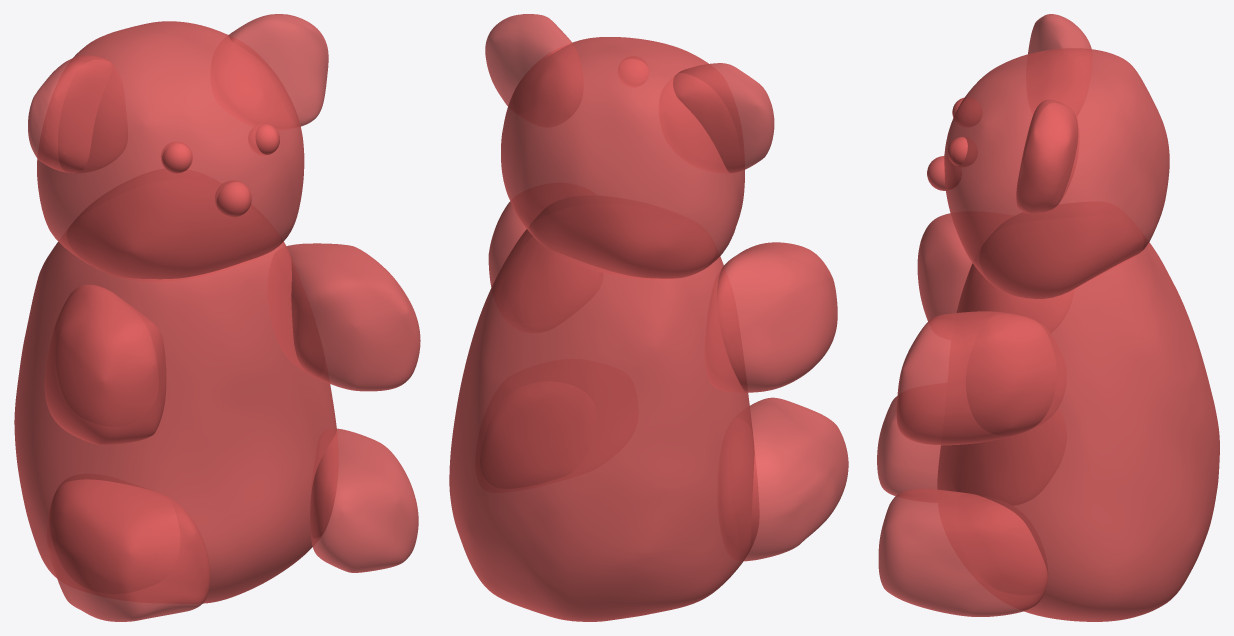
File: Gummy1.glb
3 views of the same model, side by side, from view 1: azimuth 30°, elevation 25°; view 2: azimuth 150°, elevation 25°; view 3: azimuth 270°, elevation 25° (orthographic). The views are drawn at different scales.
Parts seen in each view (by area): view 1: Box001, Box007, Box002, Box005, Box006, Box004, Box010, Box009, Sphere003, Sphere002, Sphere001; view 2: Box001, Box007, Box002, Box006, Box009, Box004, Box010, Box005, Sphere002; view 3: Box001, Box007, Box005, Box004, Box002, Box006, Box010, Box009, Sphere003, Sphere002, Sphere001.
Part boxes in pixels (x1,y1,x2,y2): Box001: [14, 169, 338, 603]; Box007: [37, 21, 304, 281]; Box002: [46, 474, 210, 621]; Box005: [268, 243, 420, 391]; Box006: [44, 284, 166, 444]; Box004: [310, 428, 418, 572]; Box010: [211, 14, 328, 129]; Box009: [28, 55, 127, 173]; Sphere003: [215, 180, 251, 217]; Sphere002: [248, 123, 279, 155]; Sphere001: [161, 141, 192, 173]; Box001: [449, 195, 759, 621]; Box007: [501, 37, 744, 279]; Box002: [718, 397, 848, 561]; Box006: [705, 242, 837, 392]; Box009: [659, 63, 774, 173]; Box004: [480, 382, 595, 488]; Box010: [485, 14, 582, 126]; Box005: [488, 201, 598, 332]; Sphere002: [618, 59, 648, 87]; Box001: [937, 202, 1219, 621]; Box007: [944, 48, 1169, 299]; Box005: [896, 311, 1065, 445]; Box004: [878, 489, 1047, 616]; Box002: [877, 396, 1066, 504]; Box006: [917, 213, 1073, 332]; Box010: [1016, 99, 1078, 213]; Box009: [1028, 14, 1091, 115]; Sphere003: [927, 156, 961, 190]; Sphere002: [947, 137, 977, 166]; Sphere001: [952, 97, 982, 127].
Size of the model in its own units: 1.03 by 1.61 by 0.9511.
Materials: 11 (11 with a texture image).
